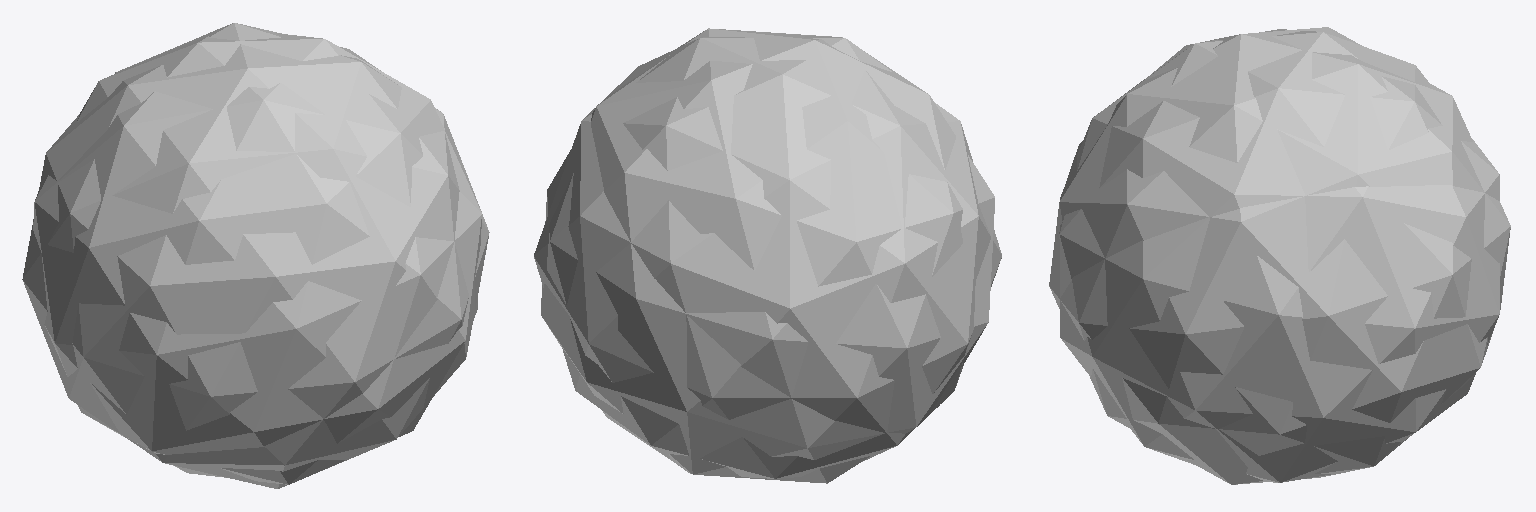
File: solar_m.obj
3 views of the same model, side by side, from view 1: azimuth 30°, elevation 25°; view 2: azimuth 150°, elevation 25°; view 3: azimuth 270°, elevation 25° (orthographic).
Bounding box in the file's own units: 23.77 × 23.61 × 23.71.